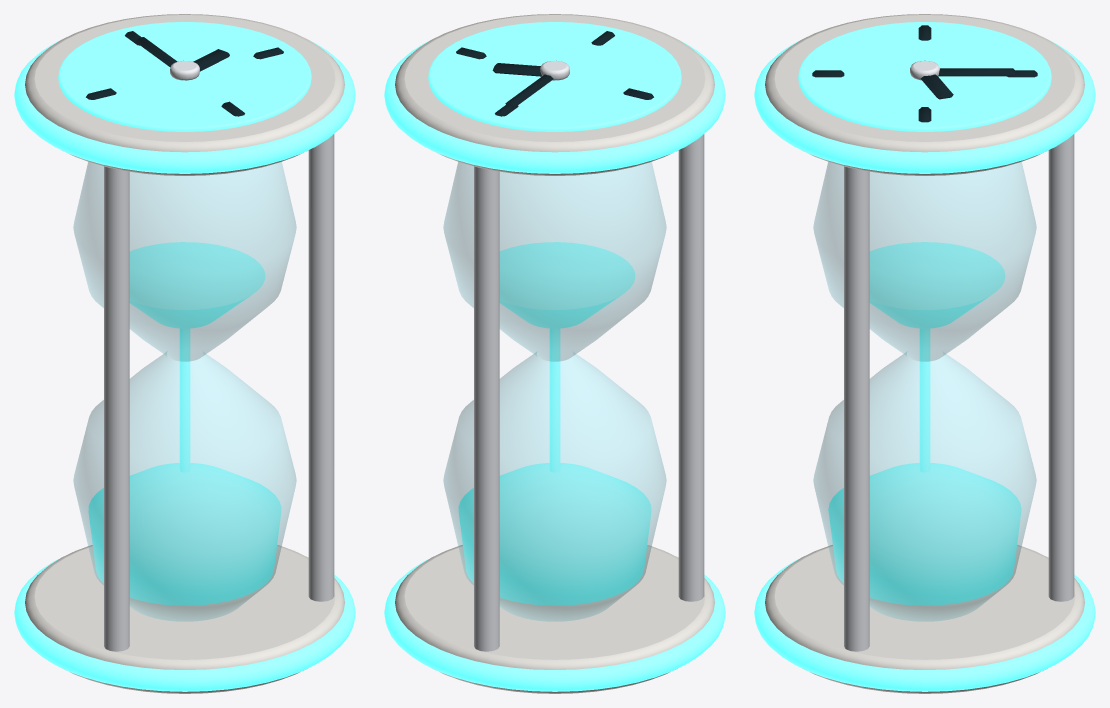
The model's file is clock.glb.
3 views of the same model, side by side, from view 1: azimuth 30°, elevation 25°; view 2: azimuth 150°, elevation 25°; view 3: azimuth 270°, elevation 25° (orthographic).
Visible parts, largest first — view 1: clock; view 2: clock; view 3: clock.
Part boxes in pixels (x1,y1,x2,y2): clock: (14, 14, 355, 693); clock: (384, 14, 725, 693); clock: (754, 14, 1095, 693).
Size of the model in its own units: 0.318 by 0.579 by 0.318.
